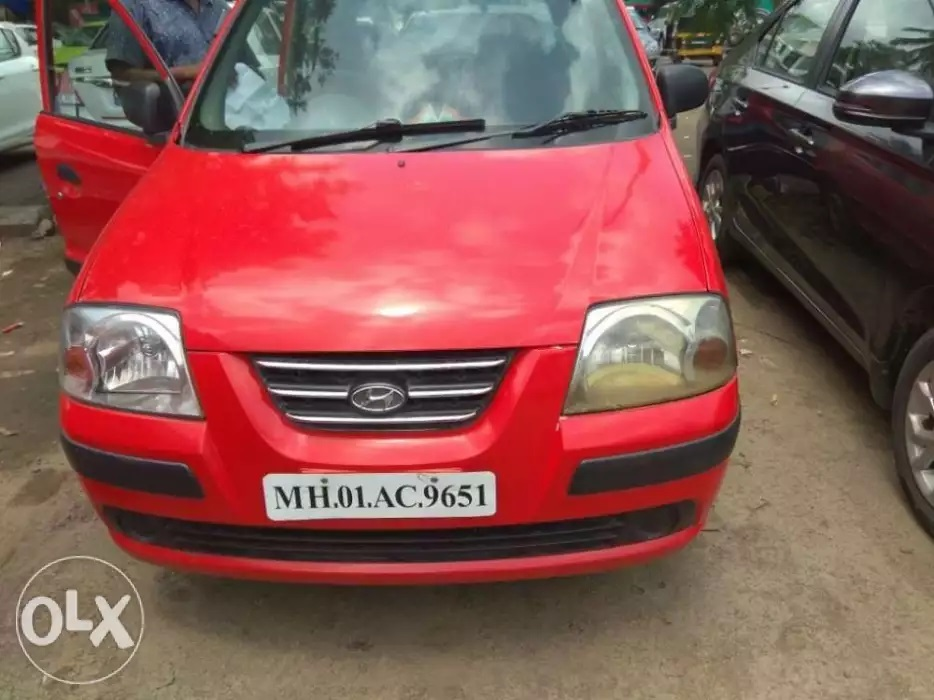licenseplate: (260, 466, 503, 525)
